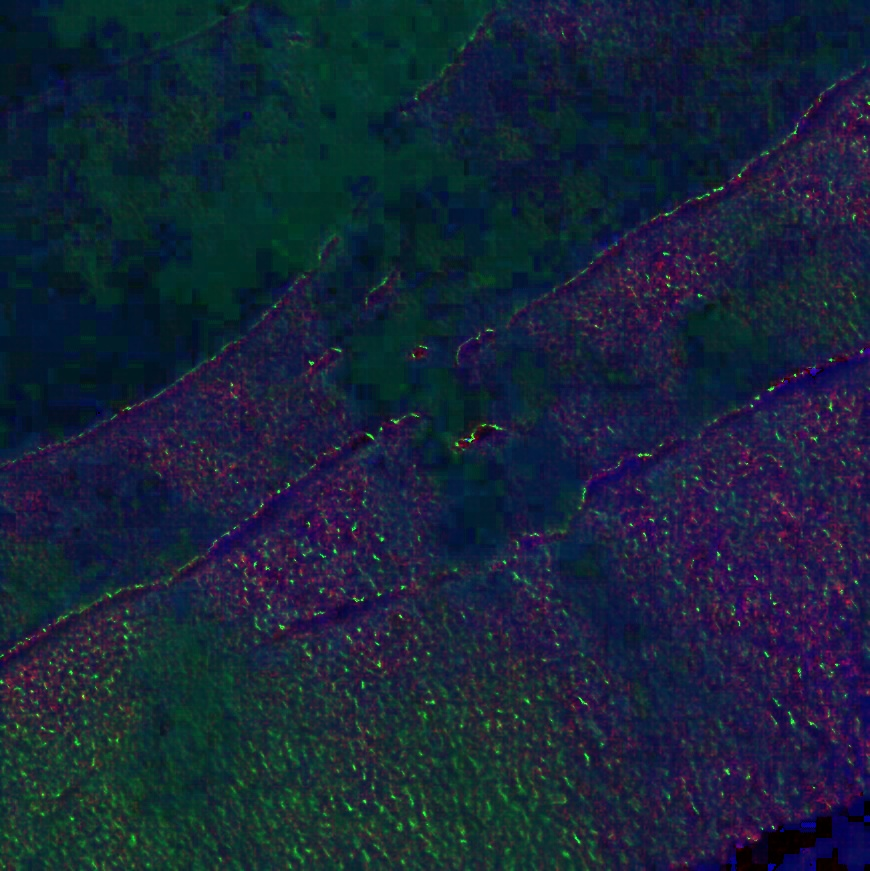rip_current: (264, 225, 604, 605)
